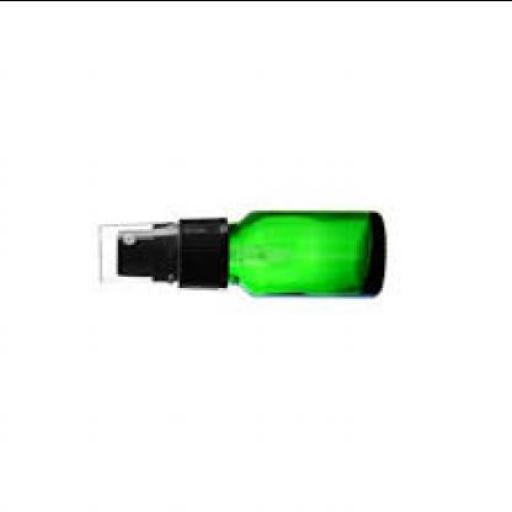glass: (225, 212, 385, 298)
plastic: (95, 218, 226, 289)
